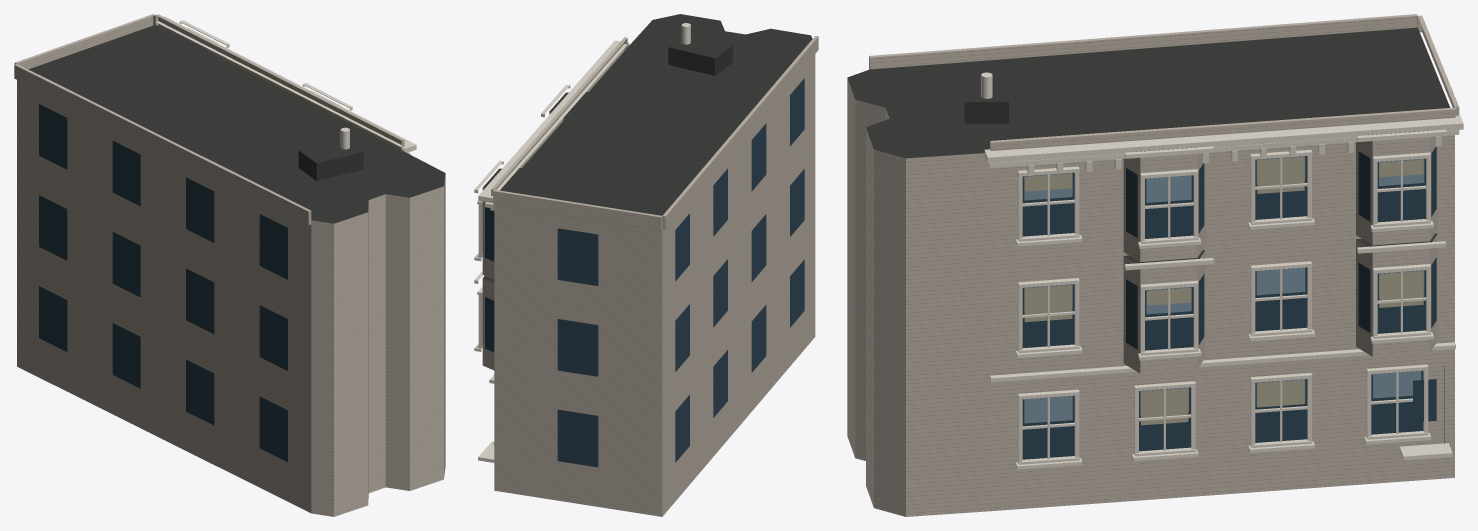
The picture shows the model from 3 angles, left to right: view 1: azimuth 30°, elevation 25°; view 2: azimuth 150°, elevation 25°; view 3: azimuth 270°, elevation 25°; orthographic projection. The views are drawn at different scales.
Visible parts, largest first — view 1: Footprint 0 / surface 2, Footprint 0 / surface 1, Inset glazing, Facade bay volumes, Cornices and window frames, Inferred rooftop service enclosure / surface 5, Inferred rooftop service enclosure / surface 3; view 2: Footprint 0 / surface 2, Footprint 0 / surface 1, Inset glazing, Facade bay volumes, Cornices and window frames, Inferred rooftop service enclosure / surface 6, Inferred rooftop service enclosure / surface 3; view 3: Footprint 0 / surface 2, Footprint 0 / surface 1, Cornices and window frames, Facade bay volumes, Inset glazing, Interior blind variation, Sky reflection panels, Inferred rooftop service enclosure / surface 3, Inferred rooftop service enclosure / surface 1.
Part boxes in pixels (box(x1,y1,x2,y2)): Footprint 0 / surface 2: box(17, 80, 445, 516); Footprint 0 / surface 1: box(28, 25, 445, 223); Inset glazing: box(39, 104, 287, 461); Facade bay volumes: box(14, 14, 404, 225); Cornices and window frames: box(156, 16, 416, 154); Inferred rooftop service enclosure / surface 5: box(316, 152, 363, 180); Inferred rooftop service enclosure / surface 3: box(299, 140, 363, 163); Footprint 0 / surface 2: box(494, 54, 815, 516); Footprint 0 / surface 1: box(502, 14, 812, 215); Inset glazing: box(485, 78, 804, 467); Facade bay volumes: box(482, 36, 818, 370); Cornices and window frames: box(474, 40, 629, 462); Inferred rooftop service enclosure / surface 6: box(668, 47, 714, 75); Inferred rooftop service enclosure / surface 3: box(668, 35, 732, 58); Footprint 0 / surface 2: box(847, 78, 1454, 516); Footprint 0 / surface 1: box(847, 27, 1450, 158); Cornices and window frames: box(984, 115, 1463, 469); Facade bay volumes: box(869, 14, 1459, 373); Inset glazing: box(1022, 146, 1436, 459); Interior blind variation: box(1024, 157, 1423, 425); Sky reflection panels: box(1024, 156, 1424, 423); Inferred rooftop service enclosure / surface 3: box(964, 74, 1008, 101); Inferred rooftop service enclosure / surface 1: box(964, 102, 1008, 123).
Size of the model in its own units: 8.68 by 12.03 by 16.71.
